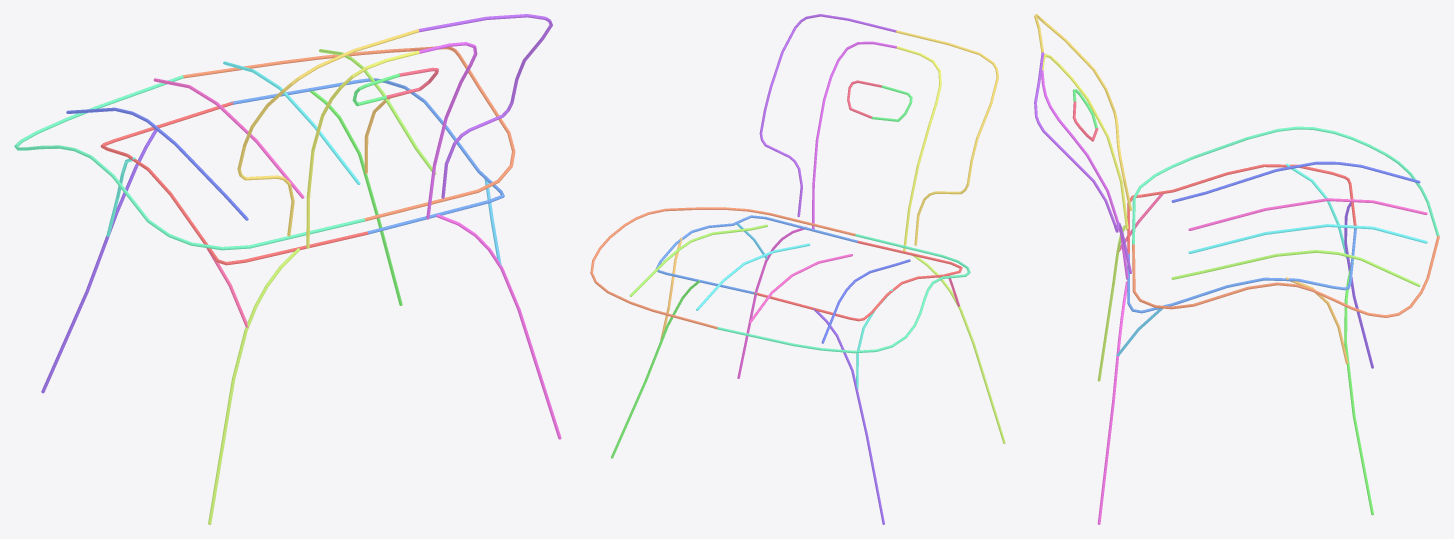
The model's file is author1_chair.gltf.
The picture shows the model from 3 angles, left to right: view 1: azimuth 30°, elevation 25°; view 2: azimuth 150°, elevation 25°; view 3: azimuth 270°, elevation 25°; orthographic projection. The views are drawn at different scales.
Size of the model in its own units: 0.563 by 0.6149 by 0.564.
